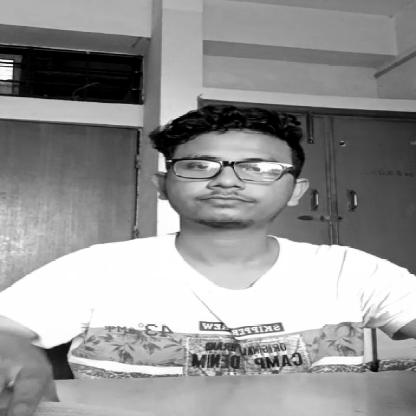Normal: (152, 119, 320, 237)
